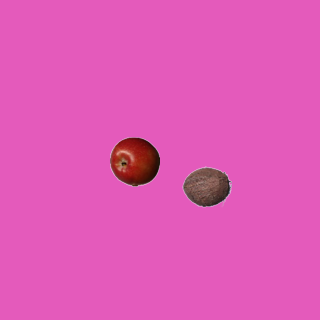Apple Braeburn: (109, 136, 159, 186)
Cocos: (181, 161, 231, 211)
